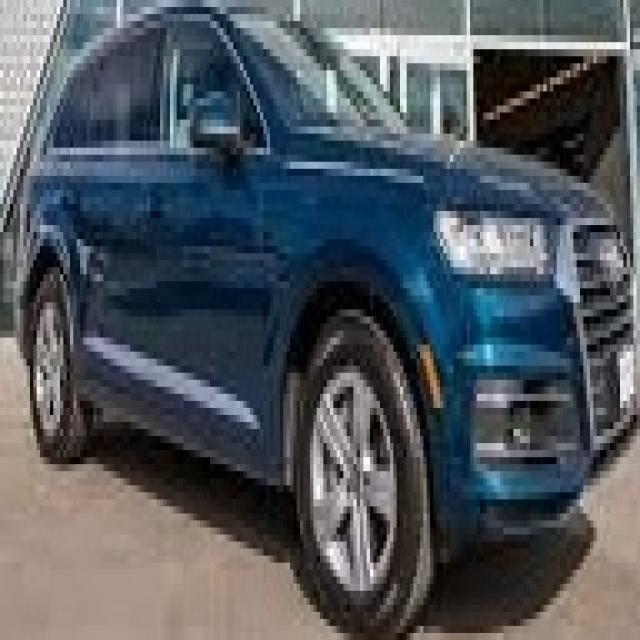blue: (21, 8, 640, 580)
